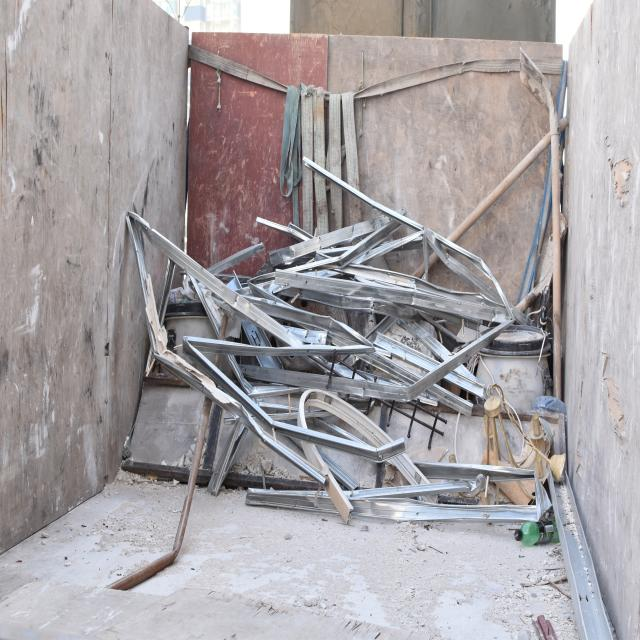entulho: (186, 343, 340, 491), (126, 212, 232, 409), (294, 386, 440, 528), (518, 49, 571, 430), (172, 303, 230, 551), (546, 457, 620, 638), (244, 488, 546, 528), (127, 212, 230, 322), (253, 268, 424, 325), (233, 400, 391, 460), (306, 160, 424, 239), (479, 382, 549, 512), (404, 318, 518, 396), (228, 354, 409, 399), (434, 236, 525, 322), (215, 283, 315, 351), (274, 211, 405, 262), (431, 315, 526, 382), (101, 542, 190, 599), (479, 303, 558, 363), (206, 329, 343, 360), (124, 214, 153, 326), (204, 245, 261, 278), (255, 217, 312, 244)
